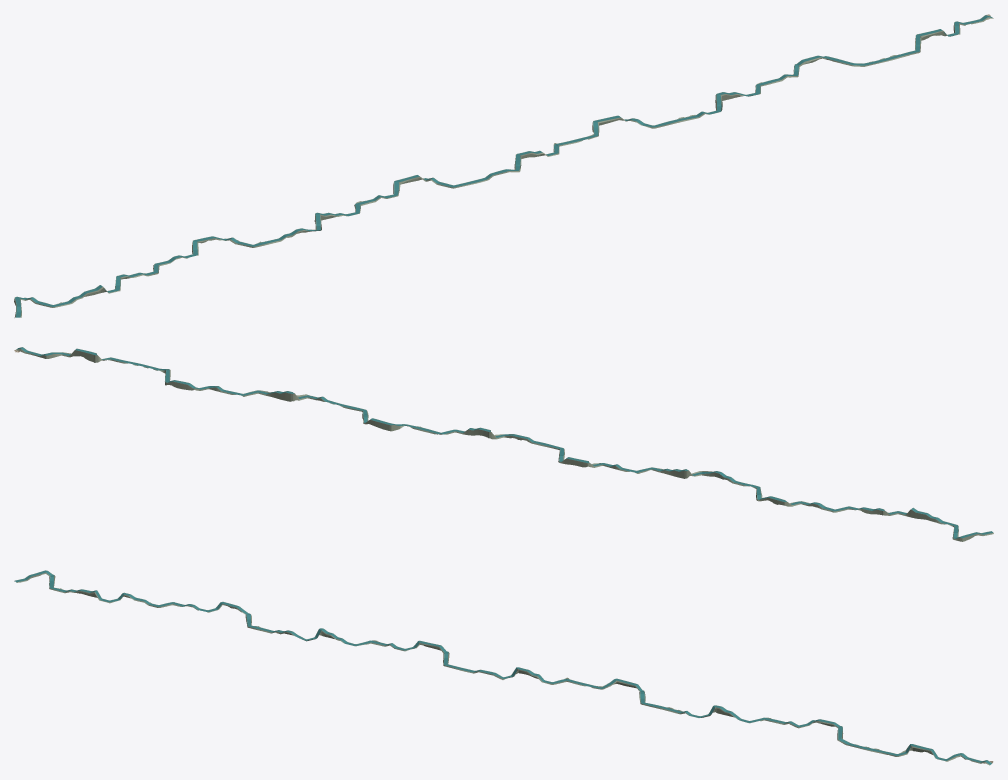
The model's file is river.glb.
The picture shows the model from 3 angles, top to bottom: view 1: azimuth 30°, elevation 25°; view 2: azimuth 150°, elevation 25°; view 3: azimuth 330°, elevation 25°; orthographic projection. The views are drawn at different scales.
Size of the model in its own units: 350 by 2.94 by 40.24.
